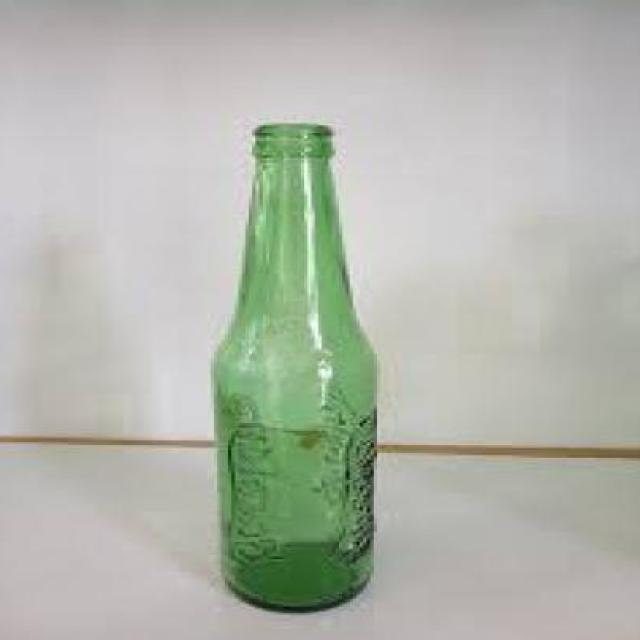kaca: (214, 124, 380, 614)
